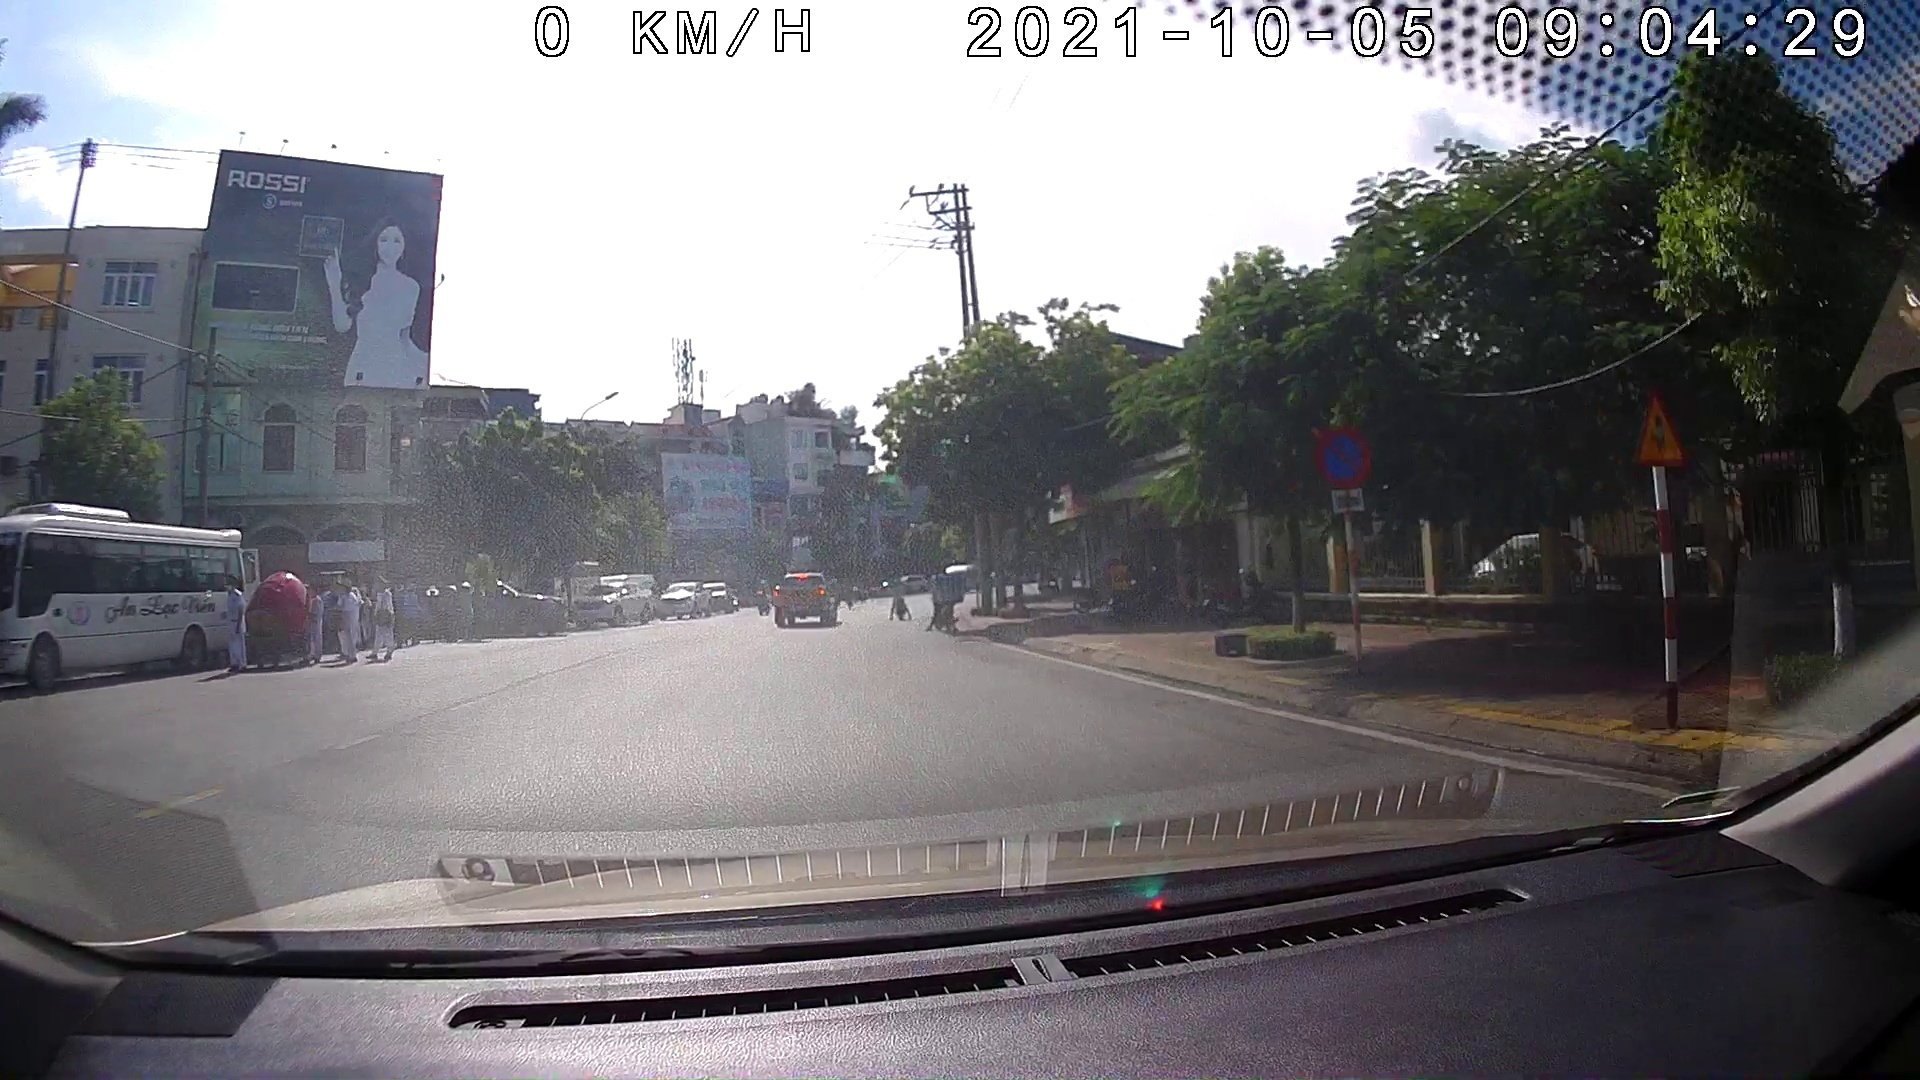Cam do xe: (1317, 417, 1369, 487)
Giao nhau voi duong khong uu tien: (1633, 390, 1683, 464)
